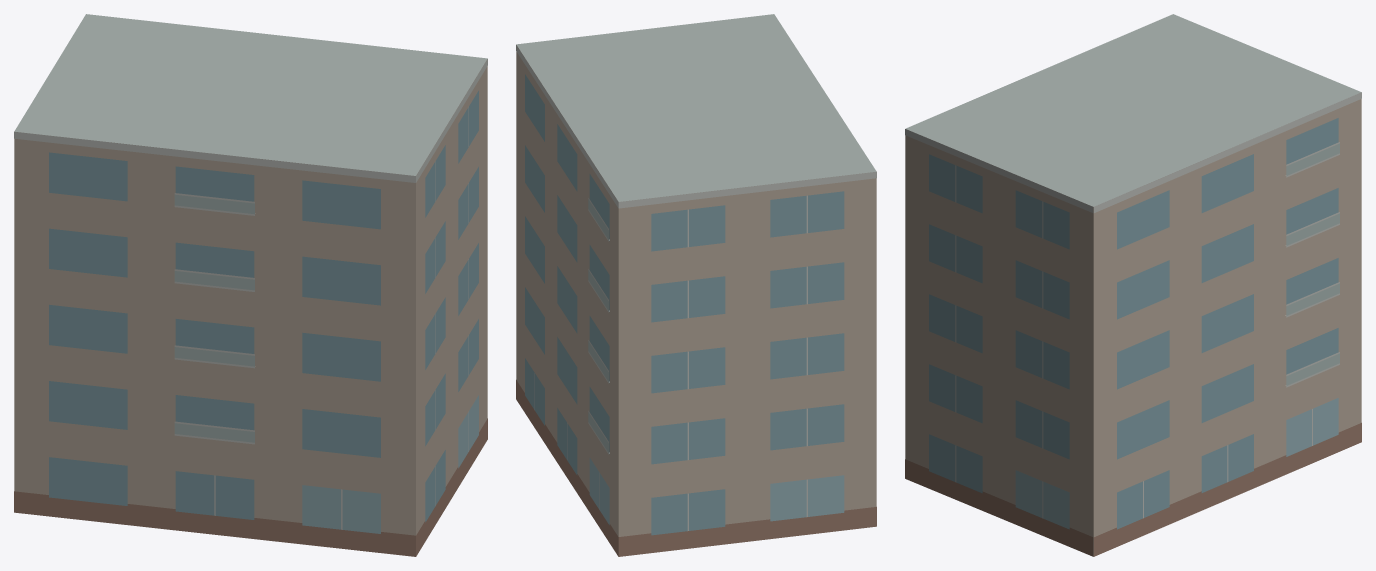
File: survey-upis-32845281.glb
3 views of the same model, side by side, from view 1: azimuth 30°, elevation 25°; view 2: azimuth 150°, elevation 25°; view 3: azimuth 270°, elevation 25° (orthographic). The views are drawn at different scales.
Parts seen in each view (by area): view 1: survey-upis-32845281.tmp; view 2: survey-upis-32845281.tmp; view 3: survey-upis-32845281.tmp.
Part boxes in pixels (x1,y1,x2,y2): survey-upis-32845281.tmp: (14, 14, 487, 556); survey-upis-32845281.tmp: (516, 14, 876, 556); survey-upis-32845281.tmp: (905, 14, 1361, 556).
Size of the model in its own units: 15.62 by 13.2 by 15.62.
